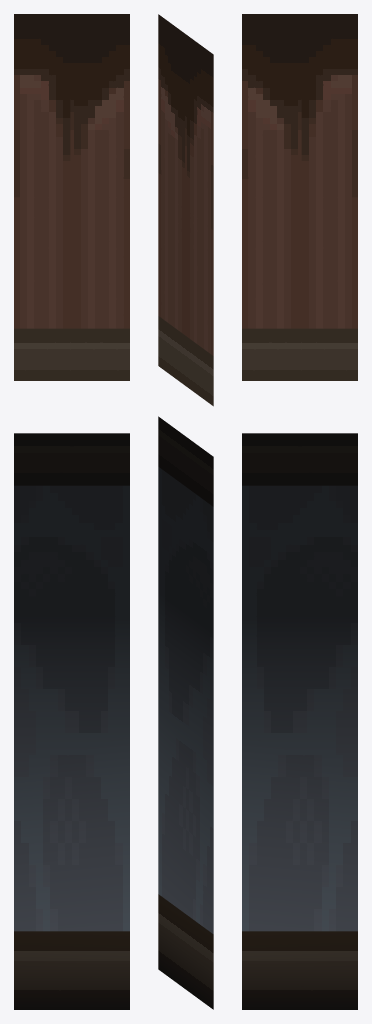
3 views of the same model, side by side, from view 1: azimuth 90°, elevation 25°; view 2: azimuth 210°, elevation 25°; view 3: azimuth 270°, elevation 25° (orthographic). The views are drawn at different scales.
Size of the model in its own units: 0 by 9.5 by 1.
Materials: 5 (5 with a texture image).
